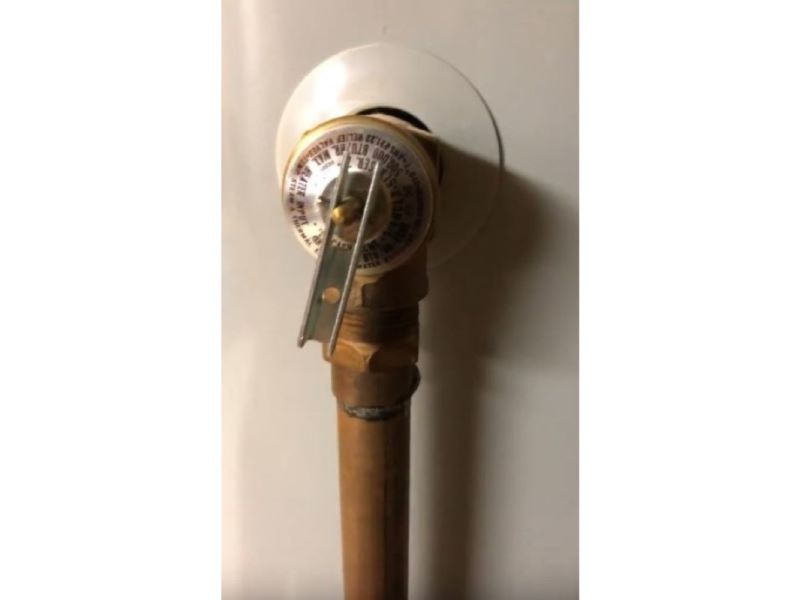Valve: (273, 108, 444, 422)
